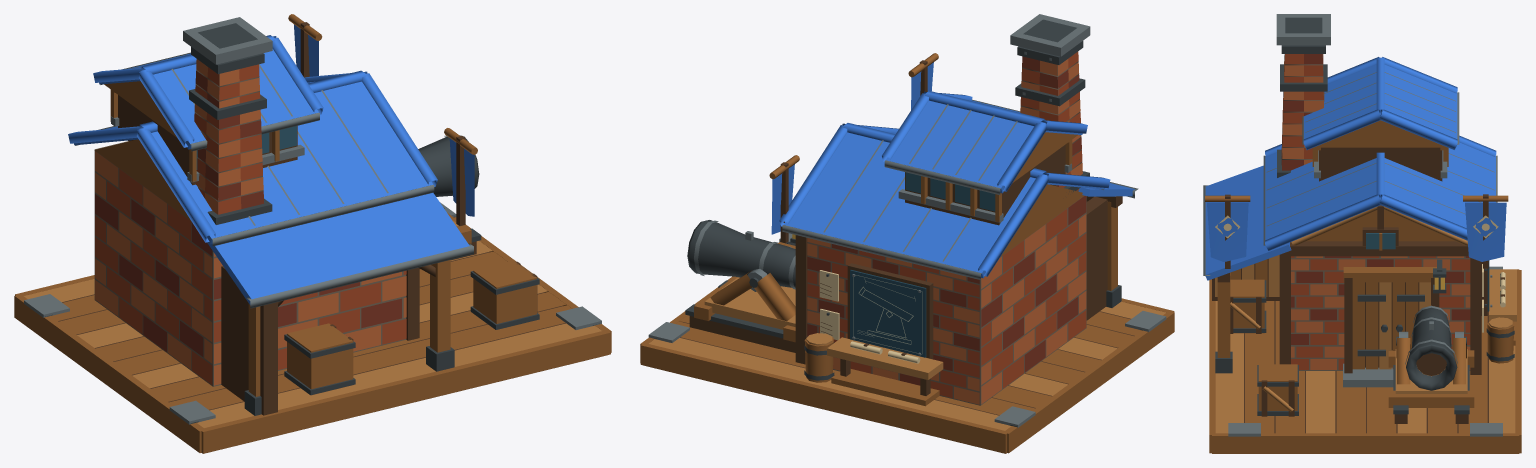
The picture shows the model from 3 angles, left to right: view 1: azimuth 30°, elevation 25°; view 2: azimuth 150°, elevation 25°; view 3: azimuth 270°, elevation 25°; orthographic projection. The views are drawn at different scales.
Visible parts, largest first — view 1: Weapons Research Workshop; view 2: Weapons Research Workshop; view 3: Weapons Research Workshop.
Part boxes in pixels (<box>): Weapons Research Workshop: <box>14,14,611,453</box>; Weapons Research Workshop: <box>640,14,1174,453</box>; Weapons Research Workshop: <box>1203,14,1521,453</box>.
Size of the model in its own units: 1.57 by 1.3 by 1.26.
